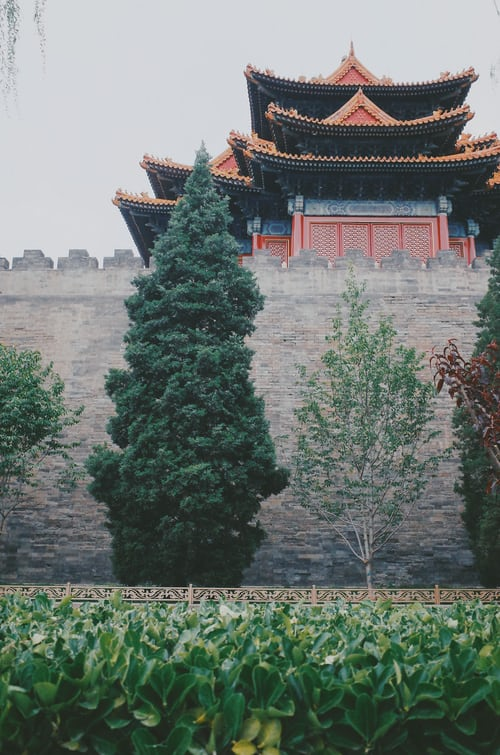Temple: (110, 39, 500, 255)
